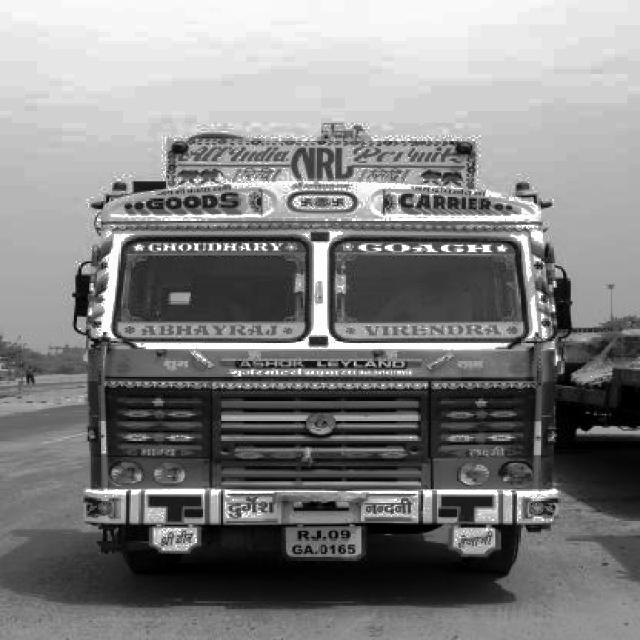HCV: (78, 132, 562, 564)
